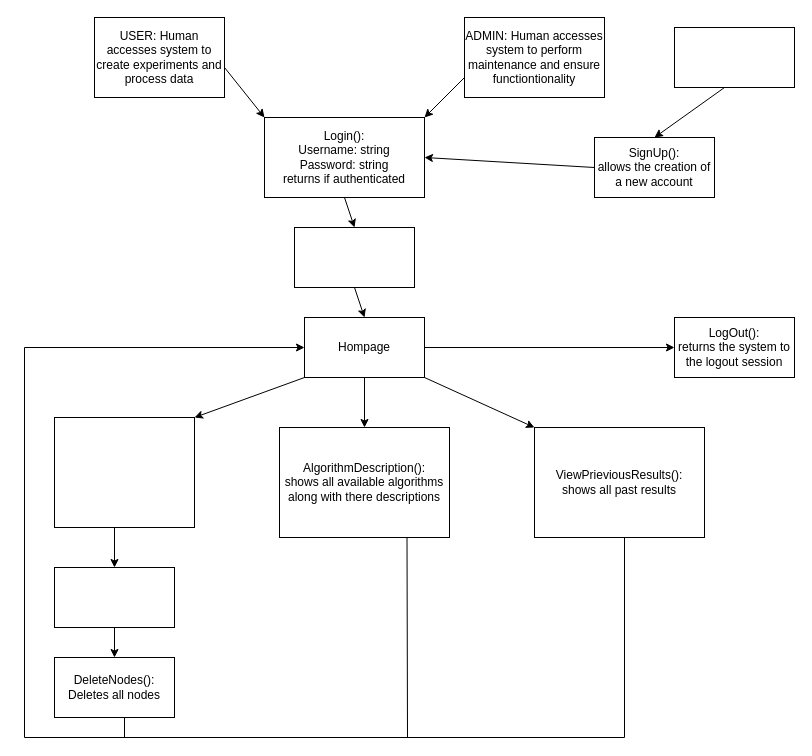
Image size: 812x756. Some labels were removed from this diagram. The box of each missing label's shape, as (x1, y1, x2, y2) in pixels:
CreateExperiment(): Environment: string NumberNodes: int Algorithm: string: (54, 416, 194, 528)
Distribute(): distributes all data to the nodes: (54, 566, 174, 628)
DuoFactor(): sends notification to DUO then returns if its authenticated: (294, 226, 414, 288)
NEW USER: human without a login: (674, 26, 794, 88)
